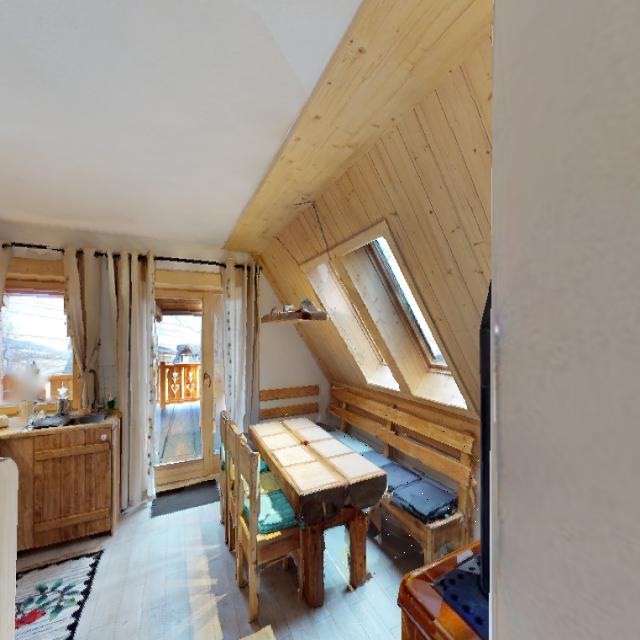chair: (385, 405, 485, 577), (223, 427, 302, 631)
table: (247, 403, 392, 598)
